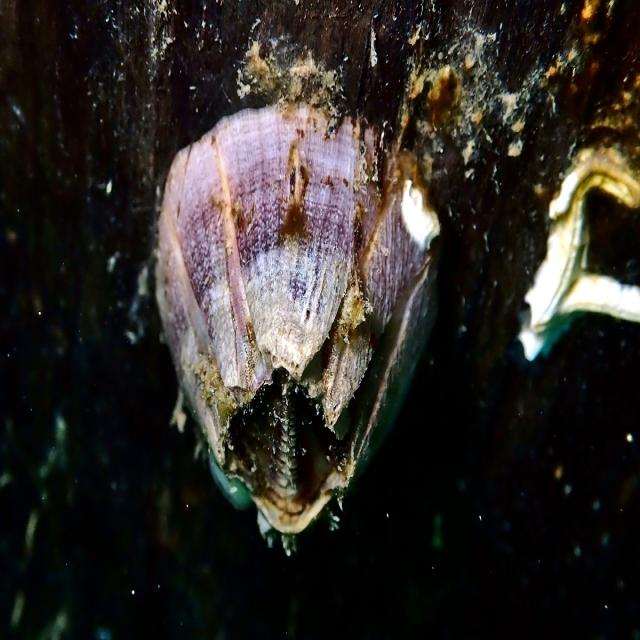barnacles: (120, 48, 444, 564)
